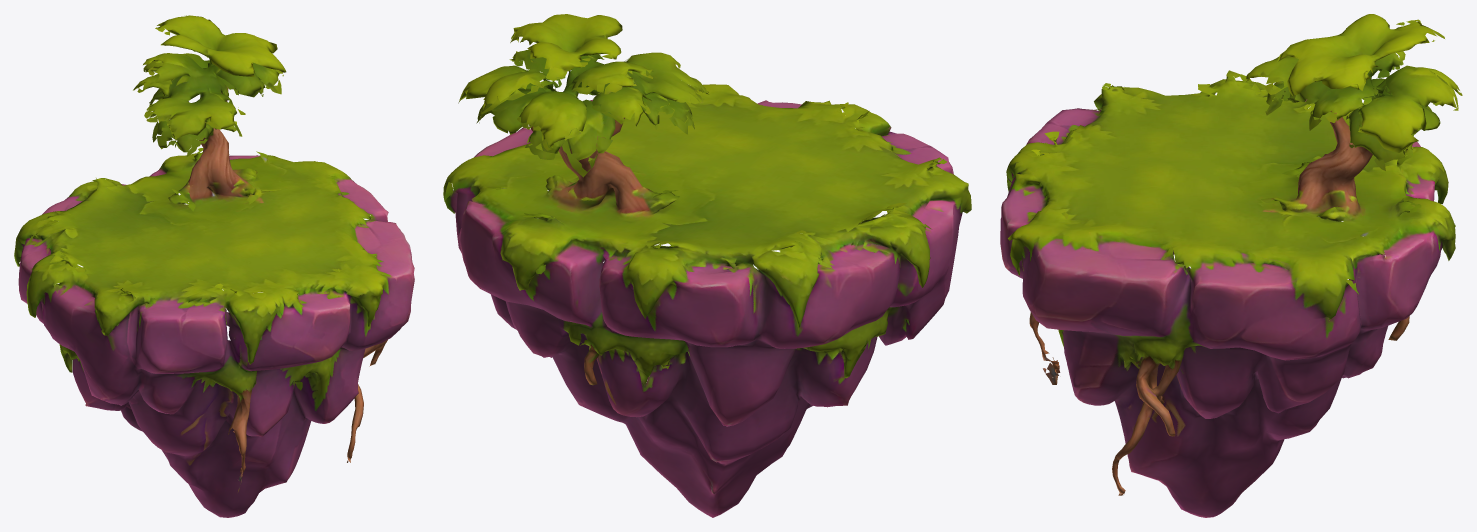
Rendered from yuzen_kaya.glb.
3 views of the same model, side by side, from view 1: azimuth 30°, elevation 25°; view 2: azimuth 150°, elevation 25°; view 3: azimuth 270°, elevation 25° (orthographic). The views are drawn at different scales.
Visible parts, largest first — view 1: tripo_node_c2172b08; view 2: tripo_node_c2172b08; view 3: tripo_node_c2172b08.
Part boxes in pixels (bbox=[...]): tripo_node_c2172b08: bbox=[14, 15, 414, 517]; tripo_node_c2172b08: bbox=[443, 14, 971, 517]; tripo_node_c2172b08: bbox=[1000, 14, 1462, 517].
Size of the model in its own units: 0.8515 by 0.9913 by 0.8088.
Materials: 1 (1 with a texture image).
